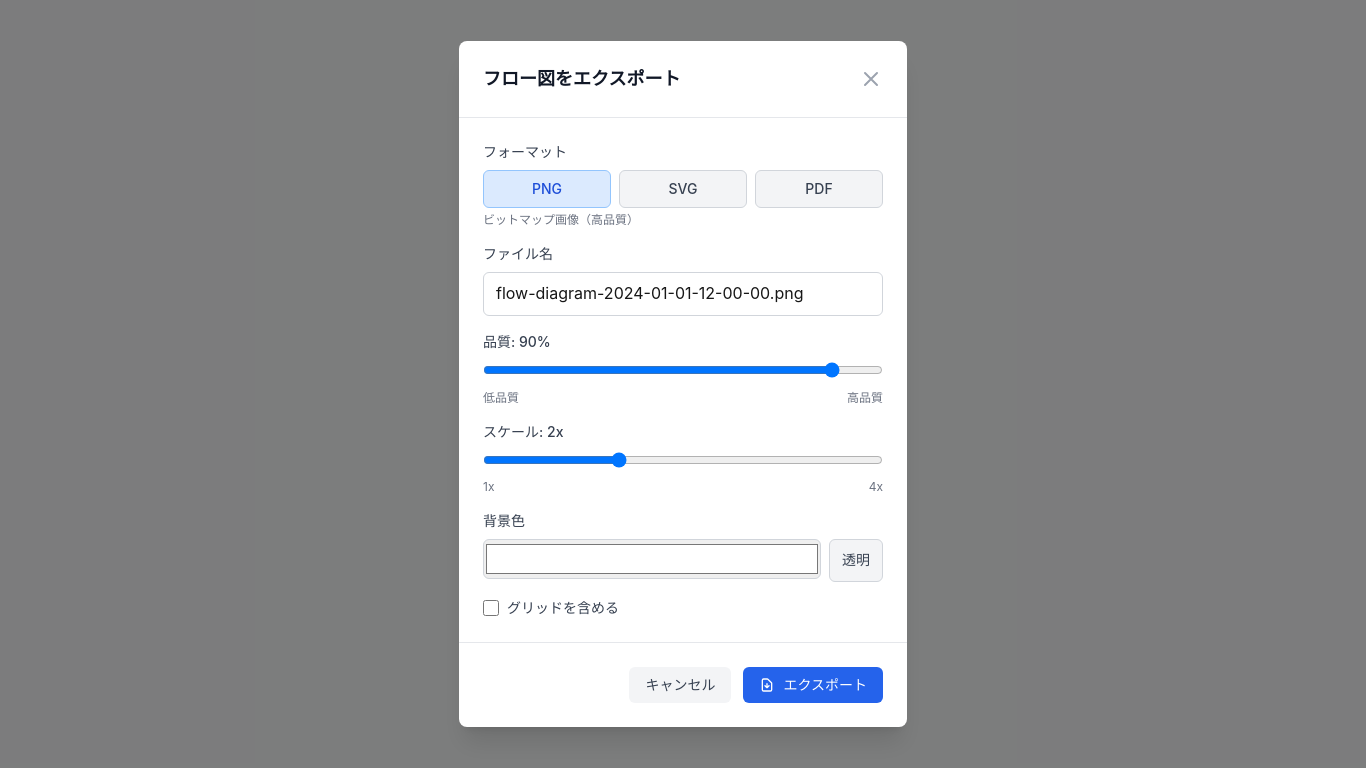
it: ExportDialog › handles export errors
// Set filename
Replace the text in the field with placeholder "ファイル名を入力" with "test.png" at (683, 294), box [483, 272, 883, 316]
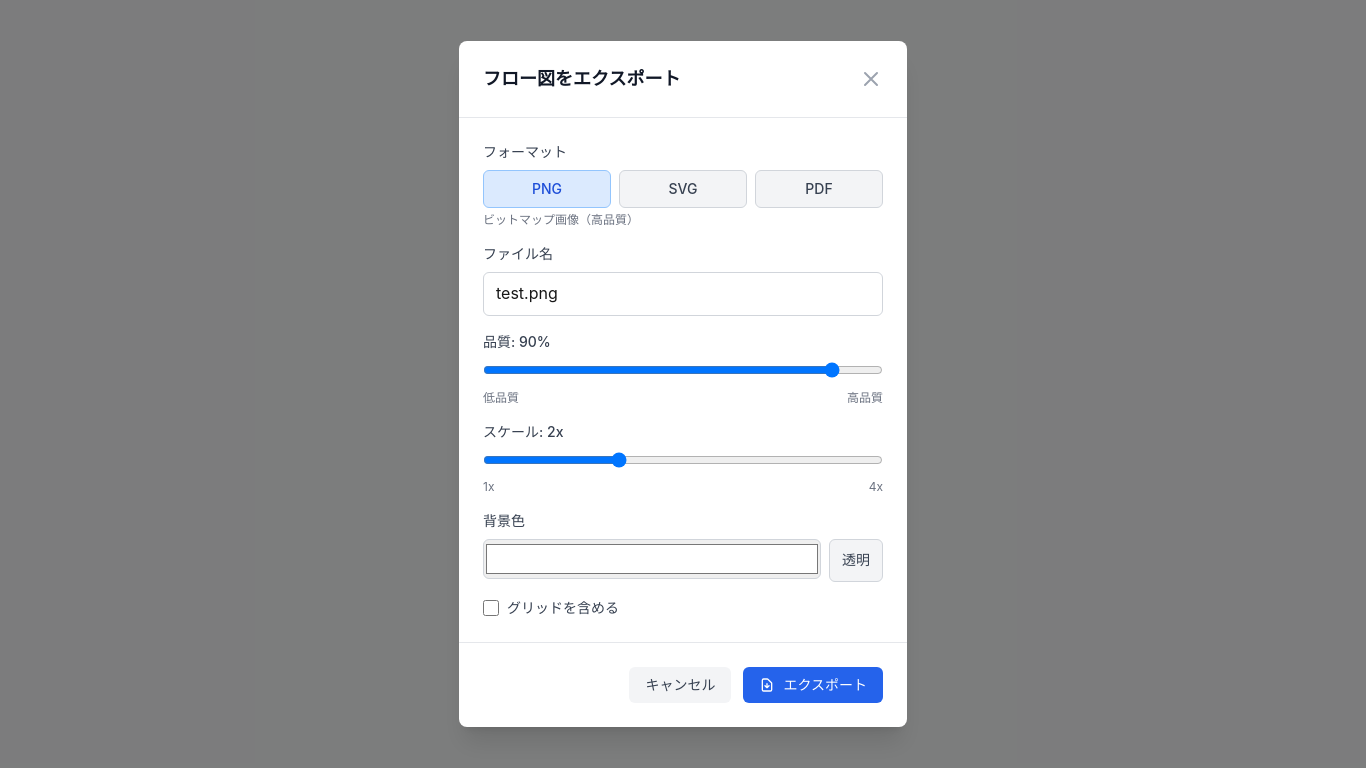
// Click export
Click the button "エクスポート" at (813, 685), box [743, 667, 883, 703]
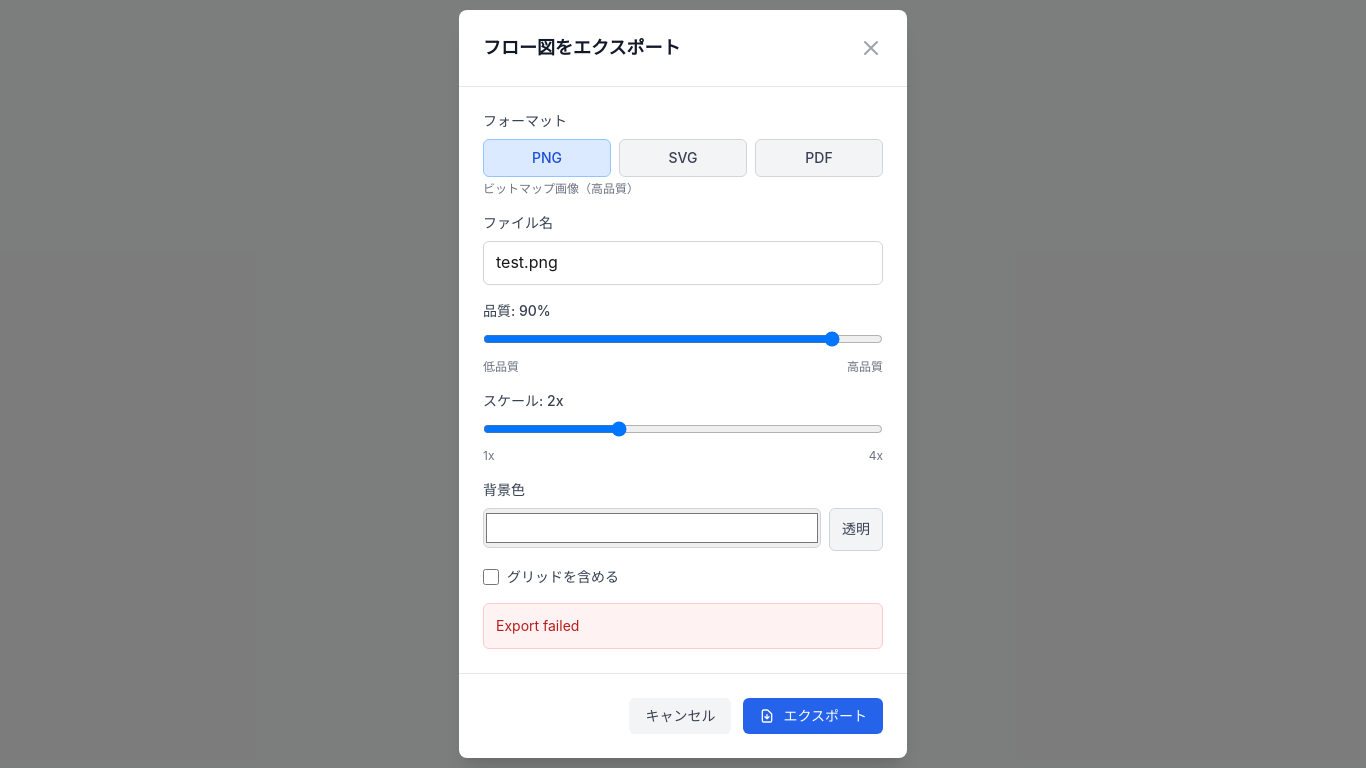
Now the text "Export failed" is shown, box [496, 617, 579, 634]
